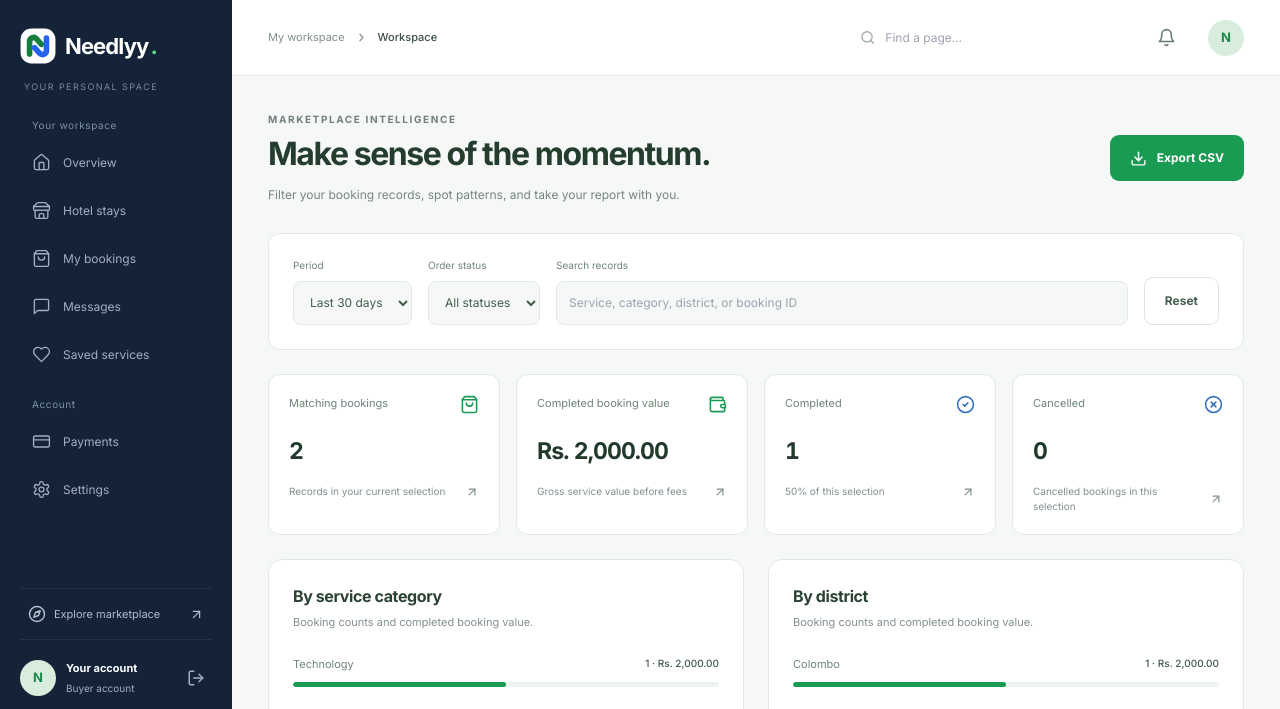
Test: report controls › does not export an empty search result
Type "not-present" into the field labelled "Search records".
click(842, 303); type("not-present")  # box x1=556 y1=281 x2=1128 y2=325
(page scrolled)
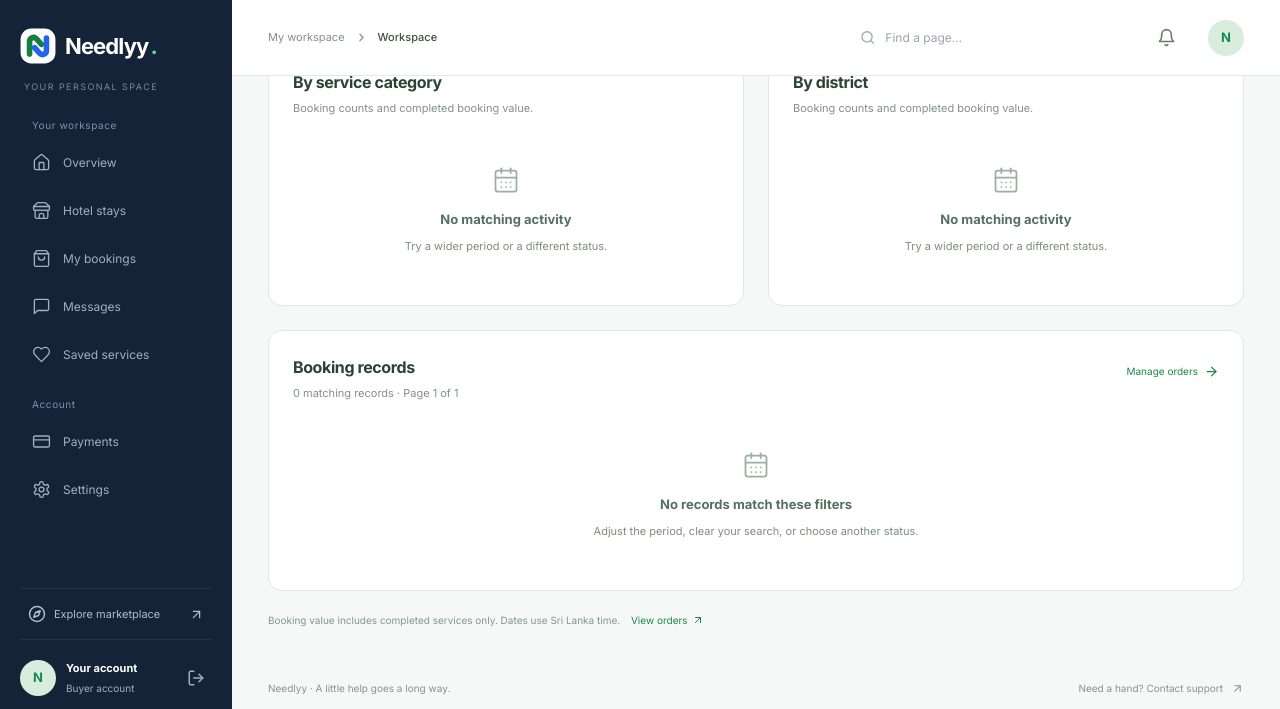
Expected: the heading "No records match these filters" is shown, x1=660 y1=496 x2=852 y2=512
